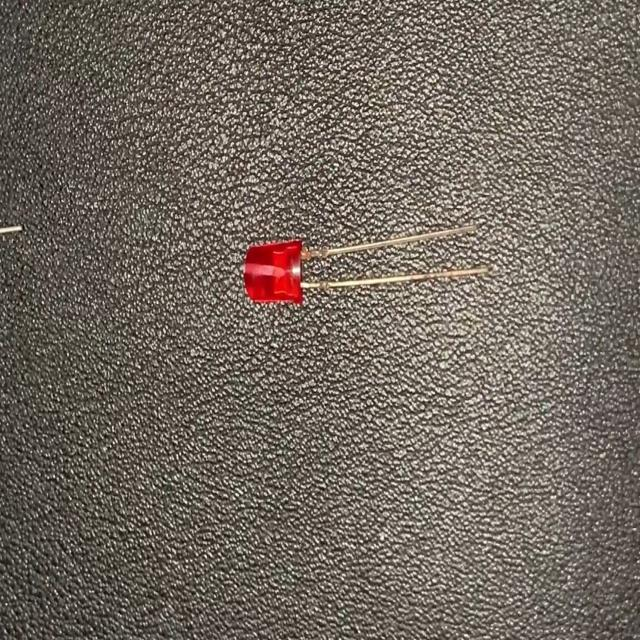LED: (241, 223, 490, 309)
rust: (300, 237, 328, 268)
